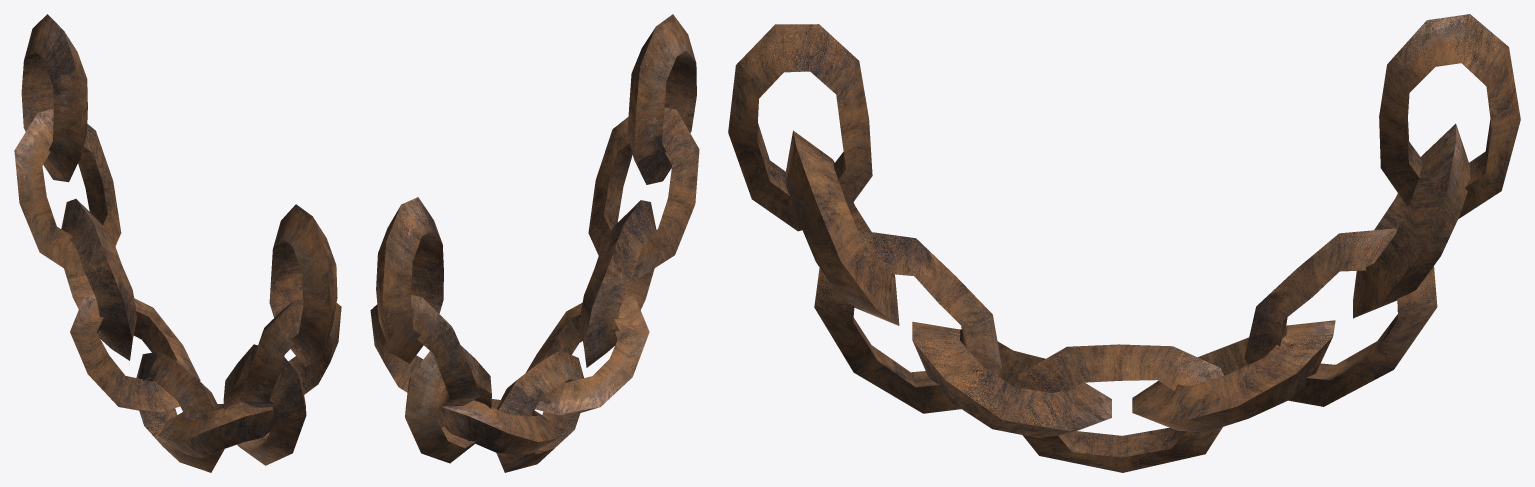
File: sm_Chain_01_02.fbx
3 views of the same model, side by side, from view 1: azimuth 30°, elevation 25°; view 2: azimuth 150°, elevation 25°; view 3: azimuth 270°, elevation 25° (orthographic). The views are drawn at different scales.
Visible parts, largest first — view 1: sm_Chain_01_02_LOD0; view 2: sm_Chain_01_02_LOD0; view 3: sm_Chain_01_02_LOD0.
Boxes of the visible parts, x1,y1,x2,y2 form: sm_Chain_01_02_LOD0: [14, 14, 341, 472]; sm_Chain_01_02_LOD0: [370, 14, 699, 472]; sm_Chain_01_02_LOD0: [728, 14, 1520, 472].
Size of the model in its own units: 7.54 by 40.21 by 25.71.
